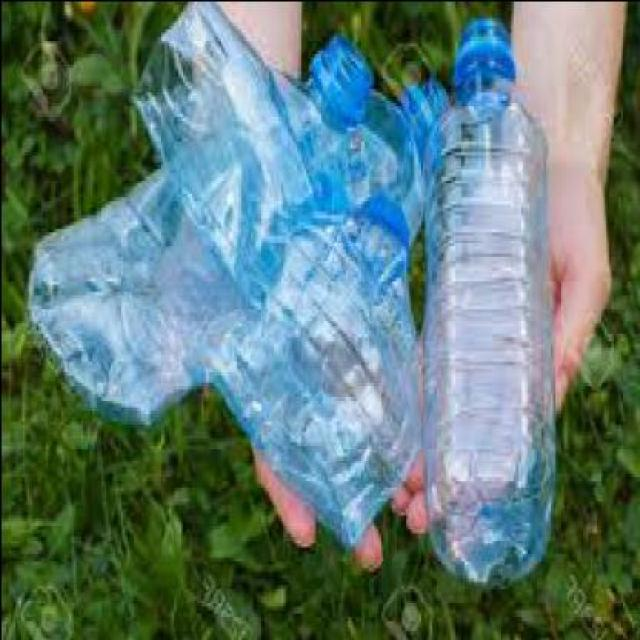PLASTIC: (31, 70, 449, 424), (202, 196, 424, 550), (423, 11, 559, 580), (132, 0, 336, 329), (161, 35, 370, 336)
